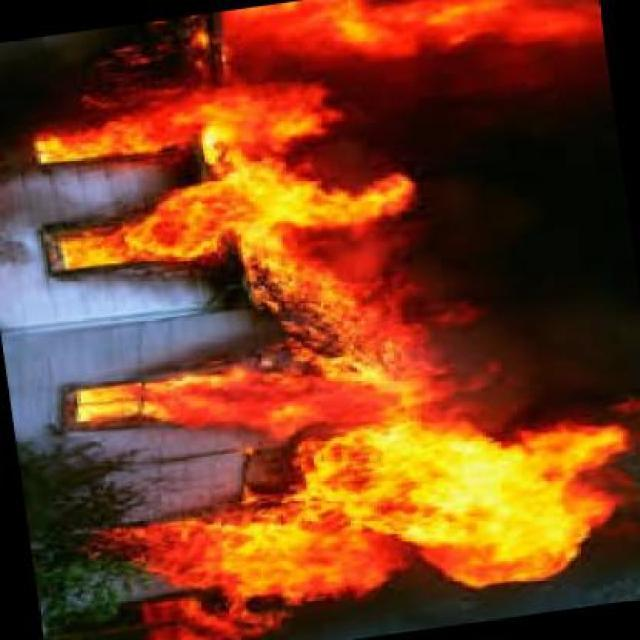Fire: (113, 430, 618, 622), (28, 0, 610, 149), (82, 302, 588, 428), (78, 164, 420, 310)
Smoke: (435, 108, 634, 403)
